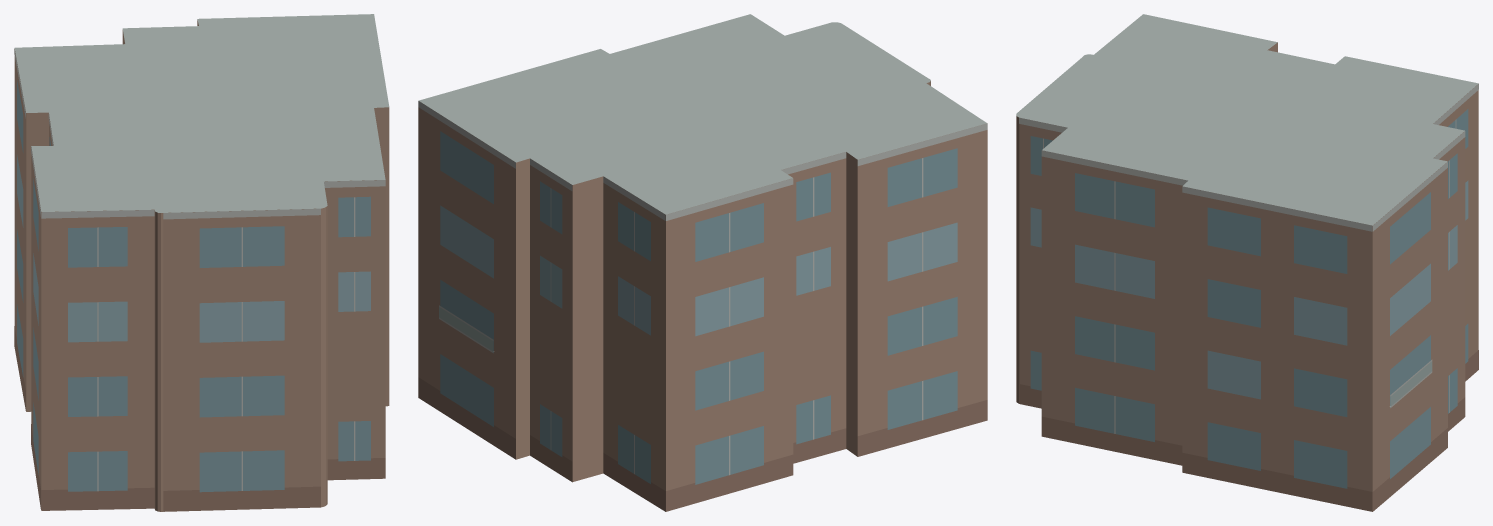
The model's file is survey-upis-32615879.glb.
3 renders of one model, left to right at view 1: azimuth 30°, elevation 25°; view 2: azimuth 150°, elevation 25°; view 3: azimuth 270°, elevation 25°, orthographic. The views are drawn at different scales.
Visible parts, largest first — view 1: survey-upis-32615879.tmp; view 2: survey-upis-32615879.tmp; view 3: survey-upis-32615879.tmp.
Boxes of the visible parts, box(x1,y1,x2,y2) form: survey-upis-32615879.tmp: box(14, 14, 389, 511); survey-upis-32615879.tmp: box(418, 14, 987, 511); survey-upis-32615879.tmp: box(1016, 14, 1478, 511).
Size of the model in its own units: 17.76 by 11.2 by 16.41.
